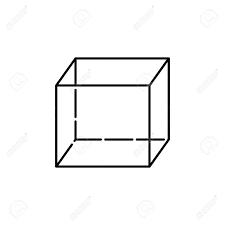cubos: (52, 52, 176, 171)
